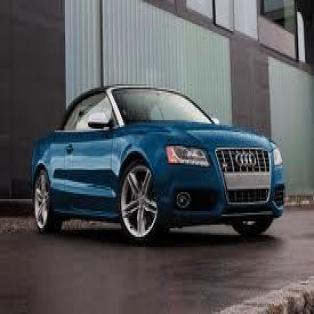Auto: (28, 84, 288, 249)
